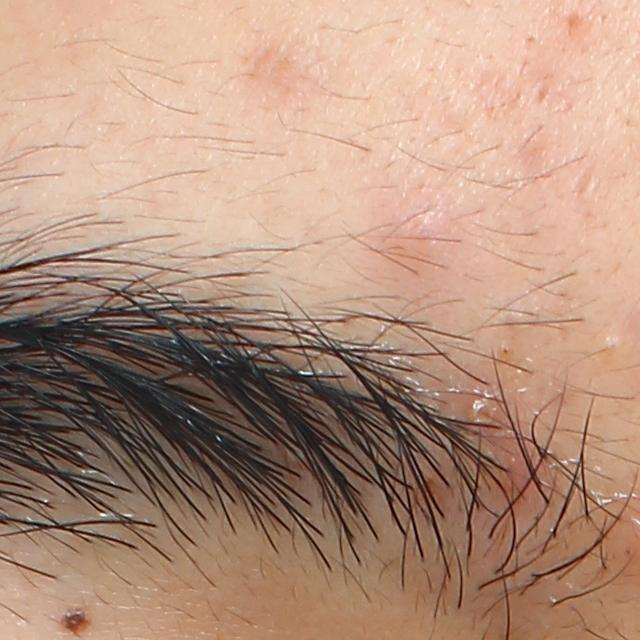atrophic_scar: (571, 155, 600, 200), (527, 77, 554, 108)
comedo: (593, 330, 627, 361)
nevus: (58, 599, 89, 635)
papule: (375, 185, 468, 282)
